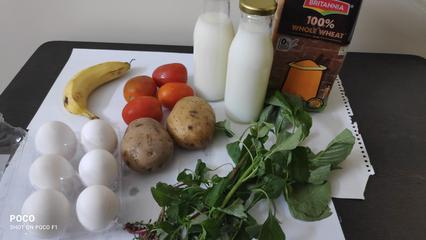banana: (65, 56, 121, 117)
bread: (280, 2, 356, 114)
eggs: (30, 120, 121, 232)
milk: (193, 11, 276, 116)
potato: (110, 112, 223, 168)
spinach: (150, 110, 338, 235)
tomato: (122, 74, 204, 115)
